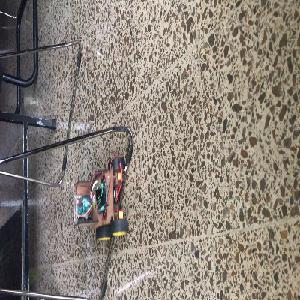Robot: (74, 157, 128, 240)
